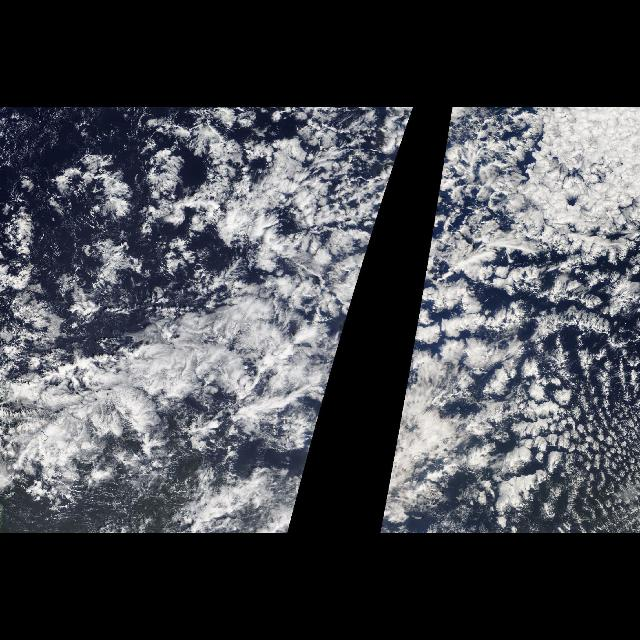Fish: (17, 268, 353, 516)
Flower: (2, 123, 410, 305), (417, 108, 639, 316), (453, 317, 639, 533)
